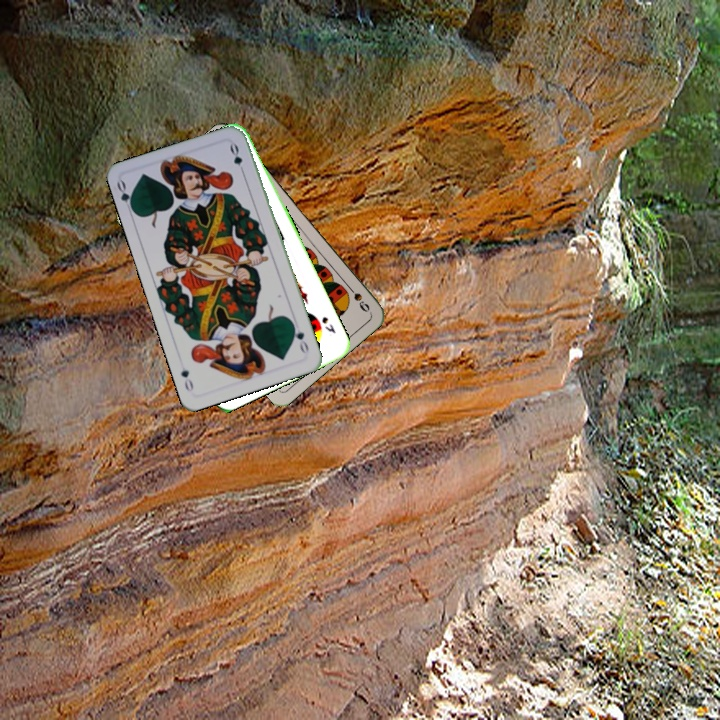GO: (113, 177, 137, 217), (288, 319, 311, 357)
S9: (342, 280, 372, 315)
SK: (318, 312, 338, 336)
